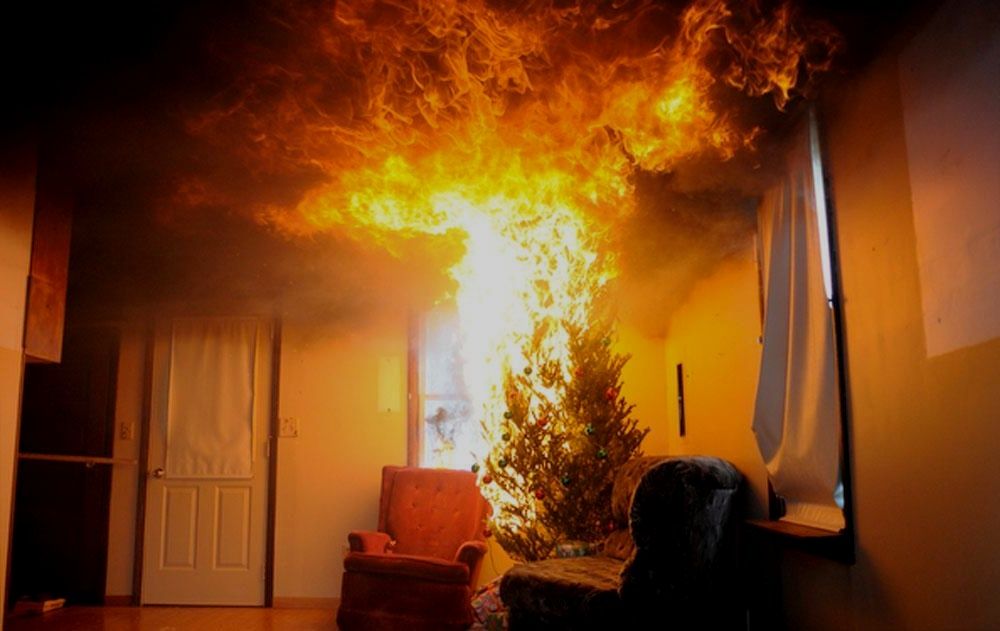fire: (157, 0, 813, 519)
